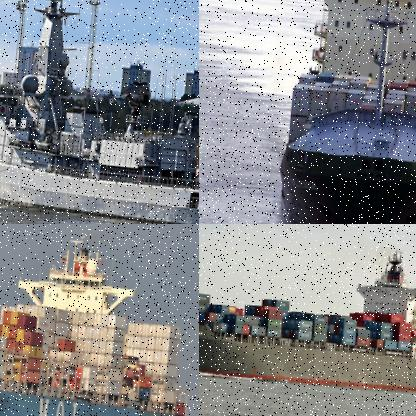Merchant Ship: (199, 224, 415, 402), (0, 224, 198, 415), (273, 0, 415, 223)
Military Ship: (0, 0, 198, 223)
